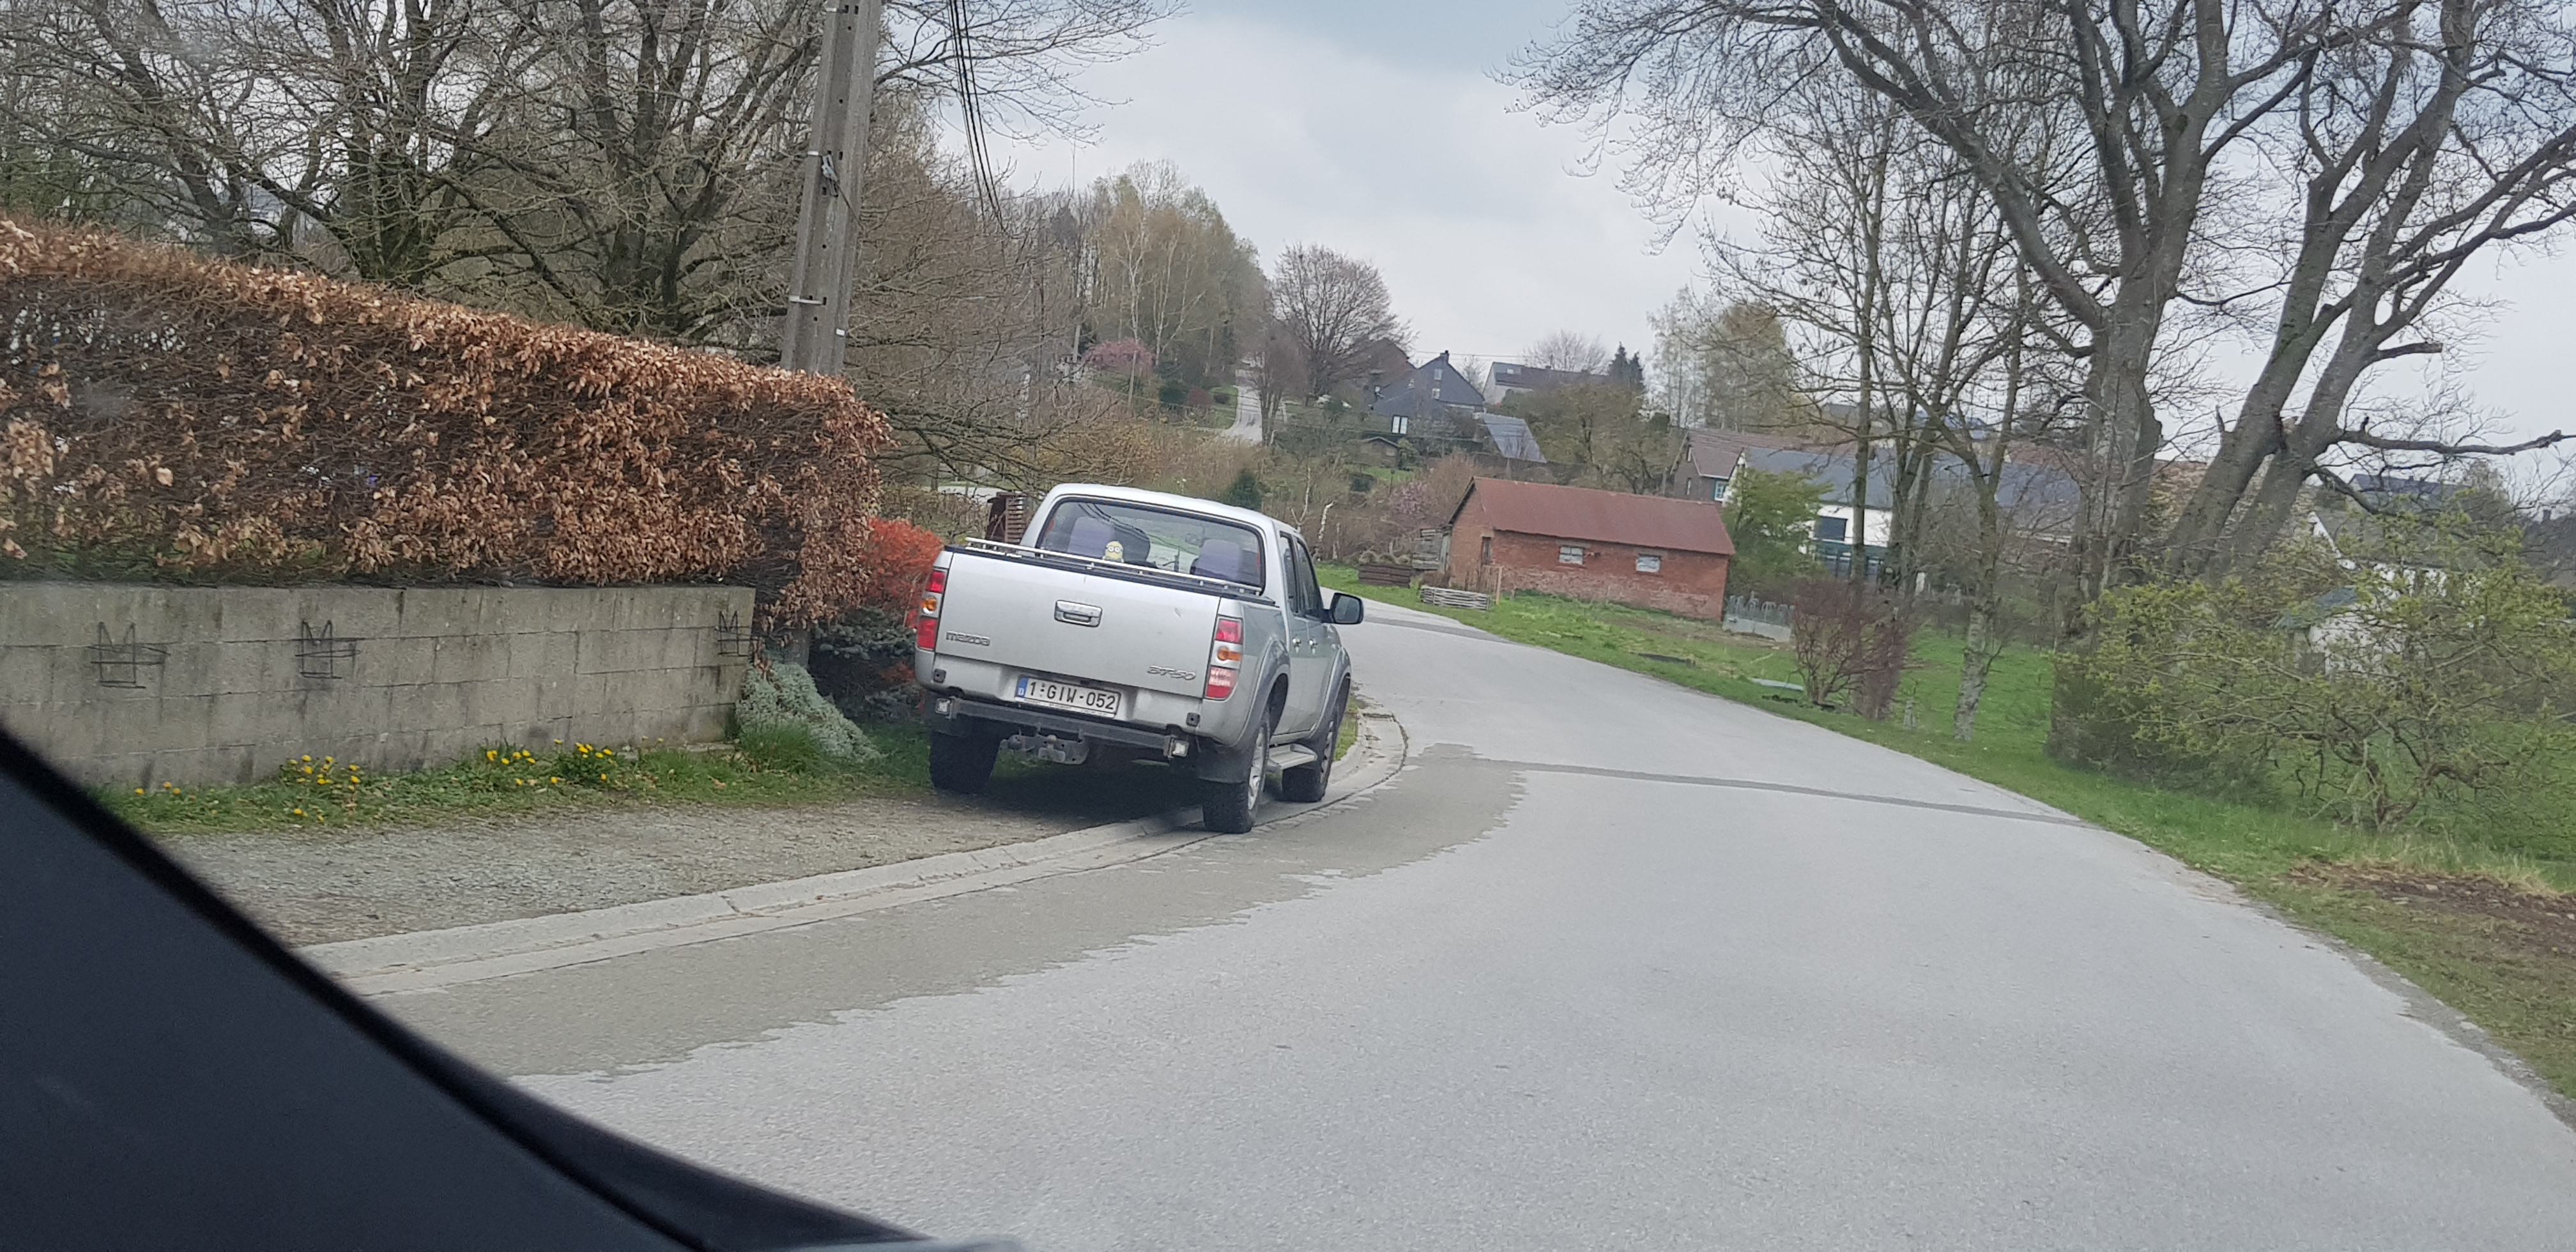licenceplate: (1014, 673, 1123, 716)
